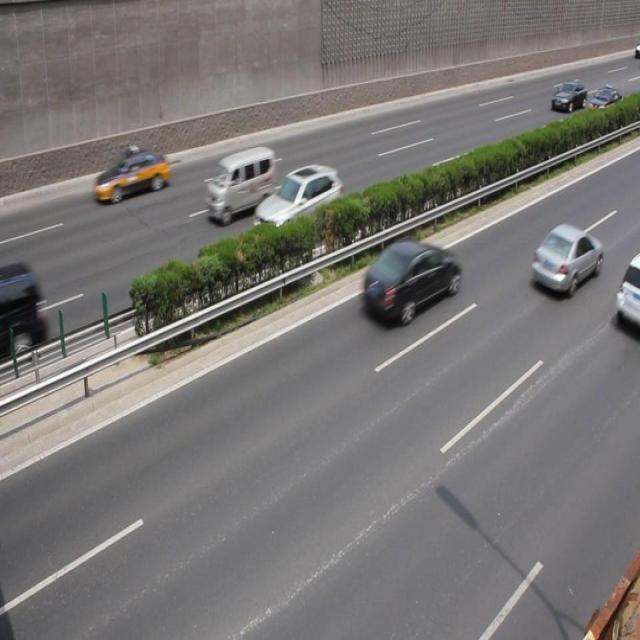car: (359, 239, 459, 326), (252, 161, 341, 253), (529, 223, 602, 297), (93, 147, 170, 205), (586, 83, 621, 118), (550, 81, 585, 113)
truck: (204, 146, 276, 226)
